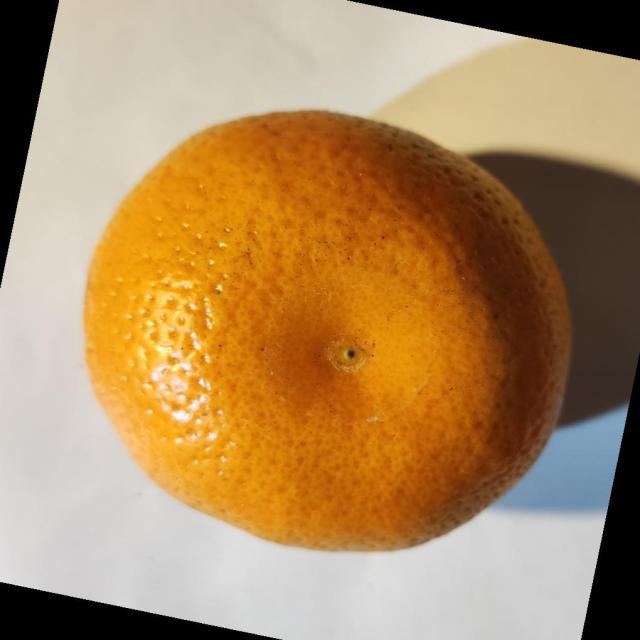fresh orange: (81, 107, 574, 554)
